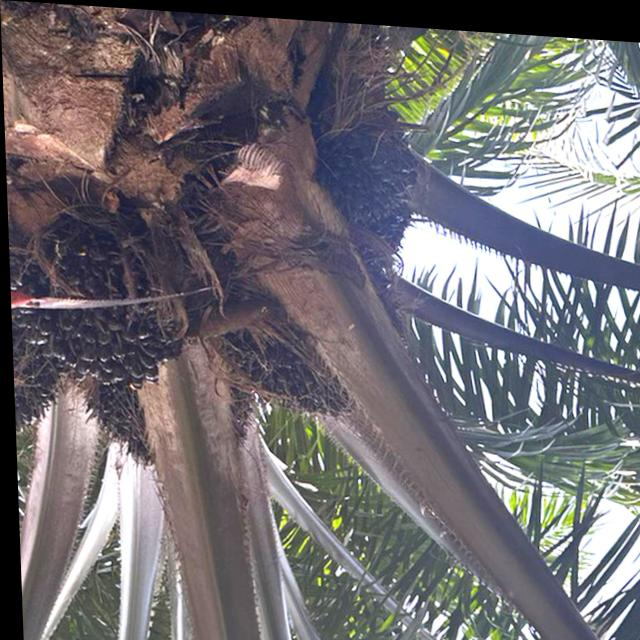unripe: (8, 199, 216, 387), (227, 291, 350, 419)
